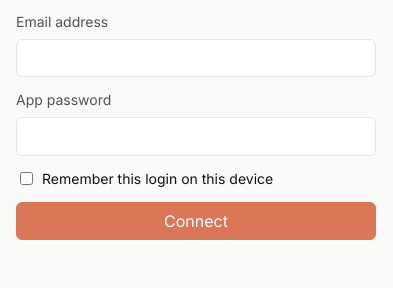
it: LoginForm › shows an inline error when connect fails
Step 1. Type "me@example.com" into the field labelled "Email address" → (196, 58), box [16,39,376,78]
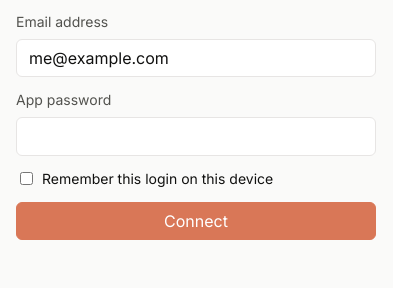
Step 2. Type "pw" into the password field labelled "App password" → (196, 137), box [16,117,376,156]
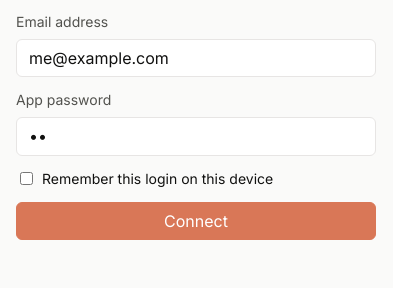
Step 3. Click the button "Connect" → click(196, 221), box [16,202,376,240]
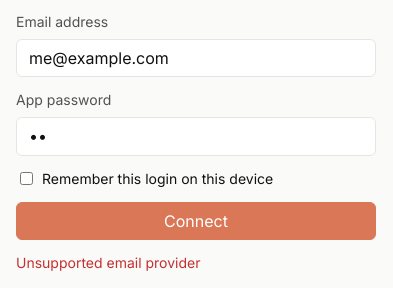
Expected: the text "Unsupported email provider" is shown, [16,254,200,272]
